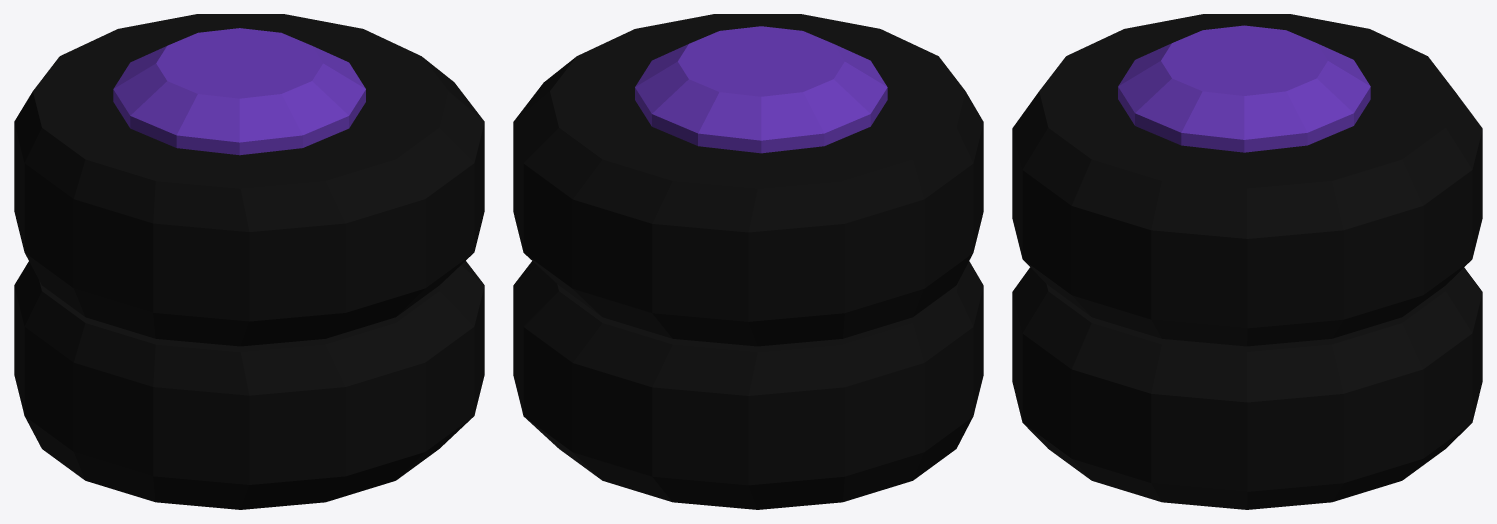
Rendered from tyreseattall.fbx.
The picture shows the model from 3 angles, left to right: view 1: azimuth 30°, elevation 25°; view 2: azimuth 150°, elevation 25°; view 3: azimuth 270°, elevation 25°; orthographic projection.
Parts seen in each view (by area): view 1: Cylinder006, tyre seat, Cylinder007; view 2: Cylinder006, tyre seat, Cylinder007; view 3: Cylinder006, tyre seat, Cylinder007.
Boxes of the visible parts, x1,y1,x2,y2 form: Cylinder006: (14,14,484,346); tyre seat: (14,261,484,509); Cylinder007: (113,28,365,155); Cylinder006: (513,14,983,346); tyre seat: (513,261,983,509); Cylinder007: (635,26,887,153); Cylinder006: (1012,14,1482,346); tyre seat: (1012,267,1482,509); Cylinder007: (1118,25,1370,152).
Bounding box in the file's own units: 67.18 × 57 × 67.55.
